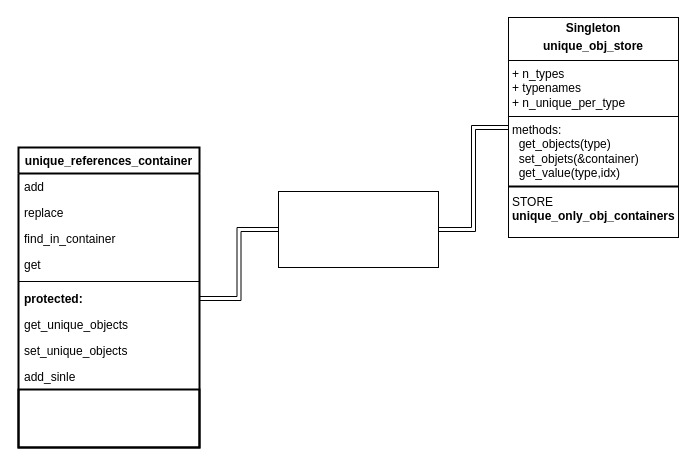
Image size: 696x468. Some labels were removed from this diagram. The centre of each missing label's shape, as x and y in pixels:
"COLLECTS REFERENCES to contents of unique_only_obj_container" goes at (108,418).
"USES, exchanges unique_only_obj_container" goes at (358,229).
